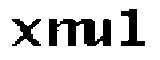1: (116, 6, 150, 51)
m: (46, 15, 91, 49)
u: (86, 15, 114, 52)
x: (9, 17, 41, 49)
